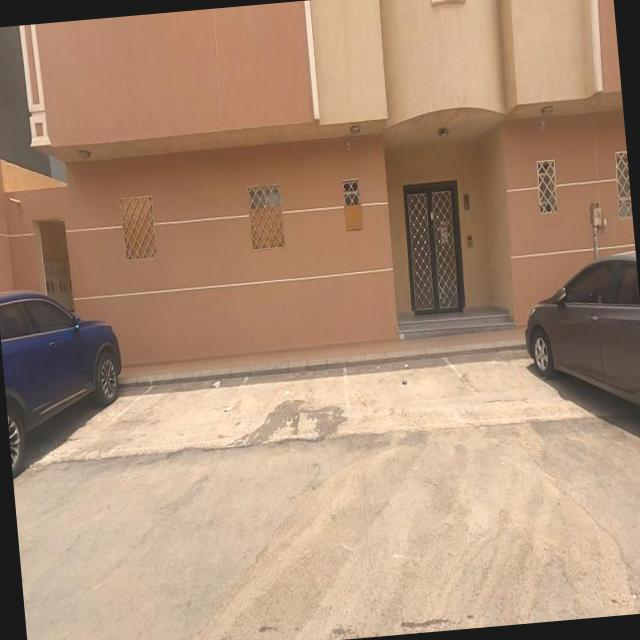debris: (178, 326, 260, 439)
